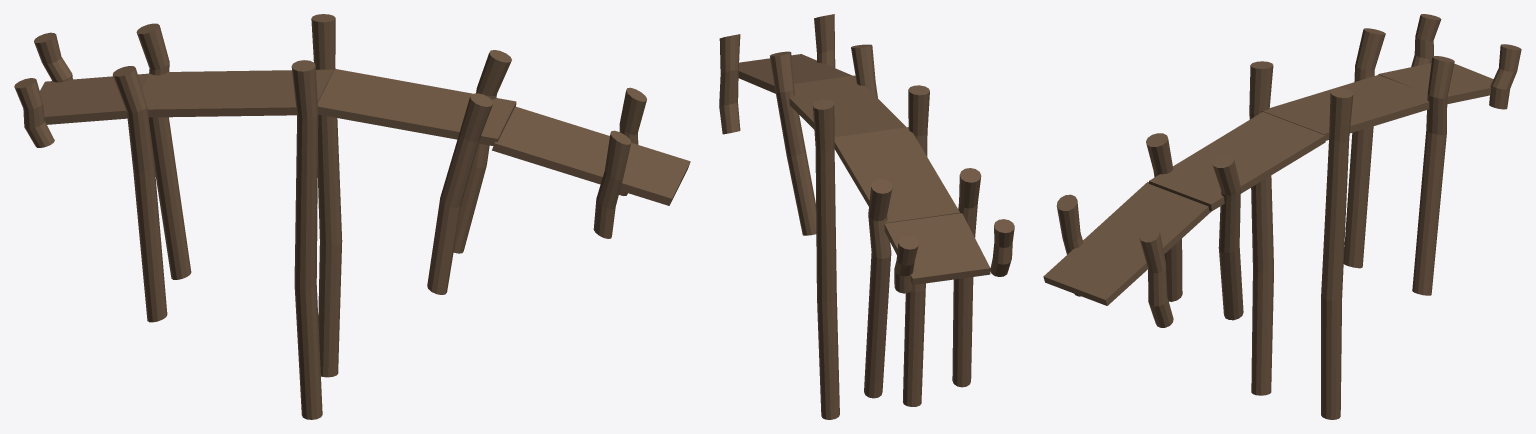
The picture shows the model from 3 angles, left to right: view 1: azimuth 30°, elevation 25°; view 2: azimuth 150°, elevation 25°; view 3: azimuth 270°, elevation 25°; orthographic projection. The views are drawn at different scales.
Visible parts, largest first — view 1: Cube.001; view 2: Cube.001; view 3: Cube.001.
Part boxes in pixels (<box>): Cube.001: <box>14,14,690,419</box>; Cube.001: <box>719,14,1014,419</box>; Cube.001: <box>1043,14,1521,419</box>.
Size of the model in its own units: 1531 by 1035 by 1379.
